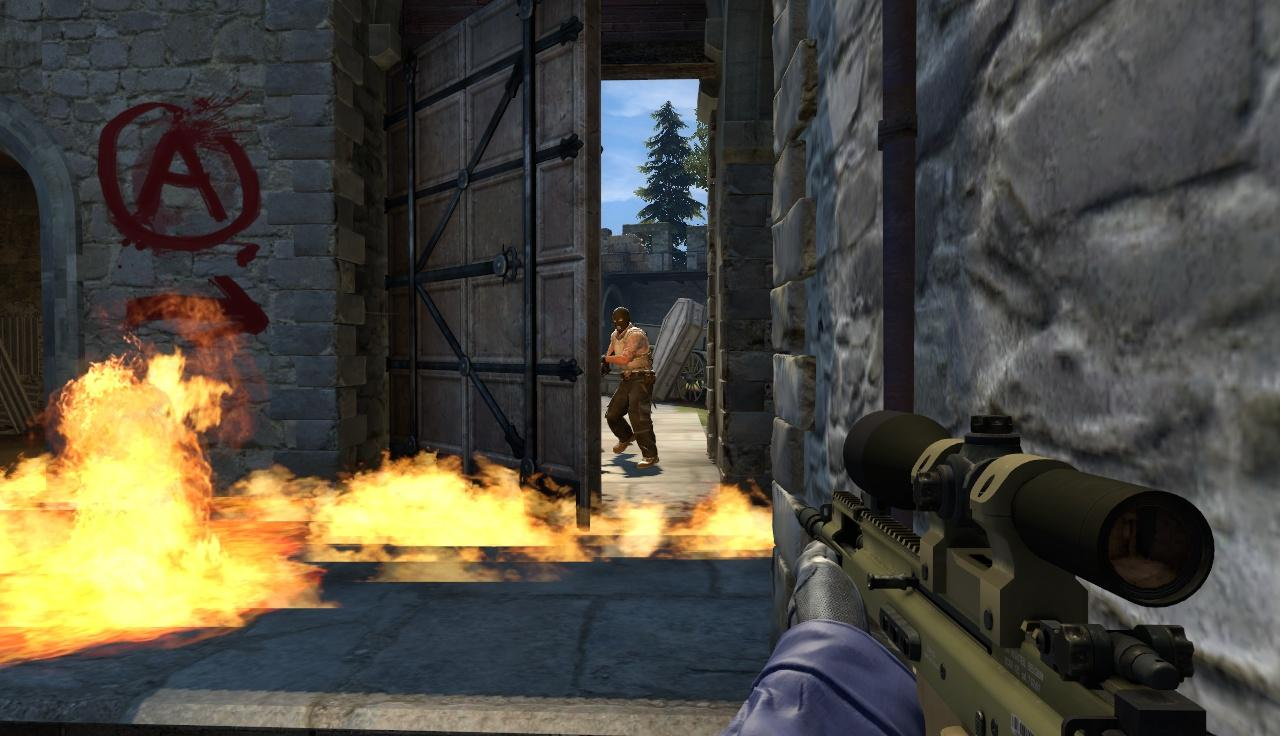sniper: (783, 406, 1229, 736)
tt: (602, 305, 653, 469)
tthead: (615, 308, 633, 333)
